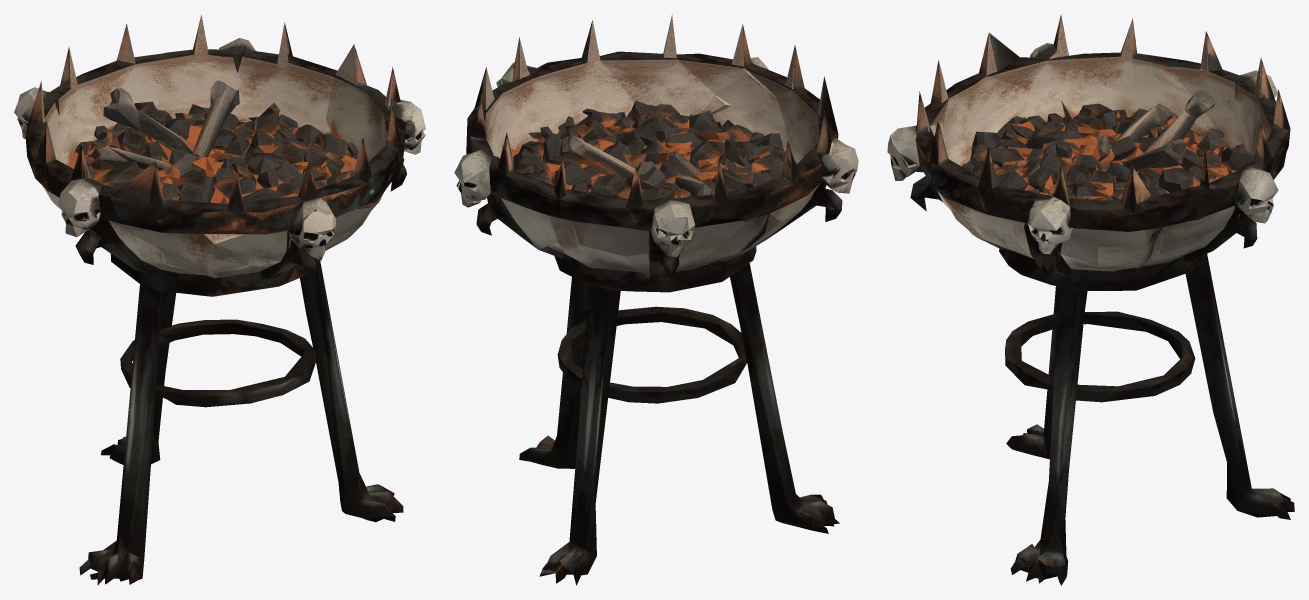
The model's file is prop_brazier.glb.
3 renders of one model, left to right at view 1: azimuth 30°, elevation 25°; view 2: azimuth 150°, elevation 25°; view 3: azimuth 270°, elevation 25°, orthographic. The views are drawn at different scales.
Visible parts, largest first — view 1: Brazier; view 2: Brazier; view 3: Brazier.
Boxes of the visible parts, x1,y1,x2,y2 form: Brazier: [14, 14, 425, 585]; Brazier: [454, 14, 858, 585]; Brazier: [887, 14, 1294, 585].
Size of the model in its own units: 1.31 by 1.5 by 1.3.
1 material, 1 textured.
